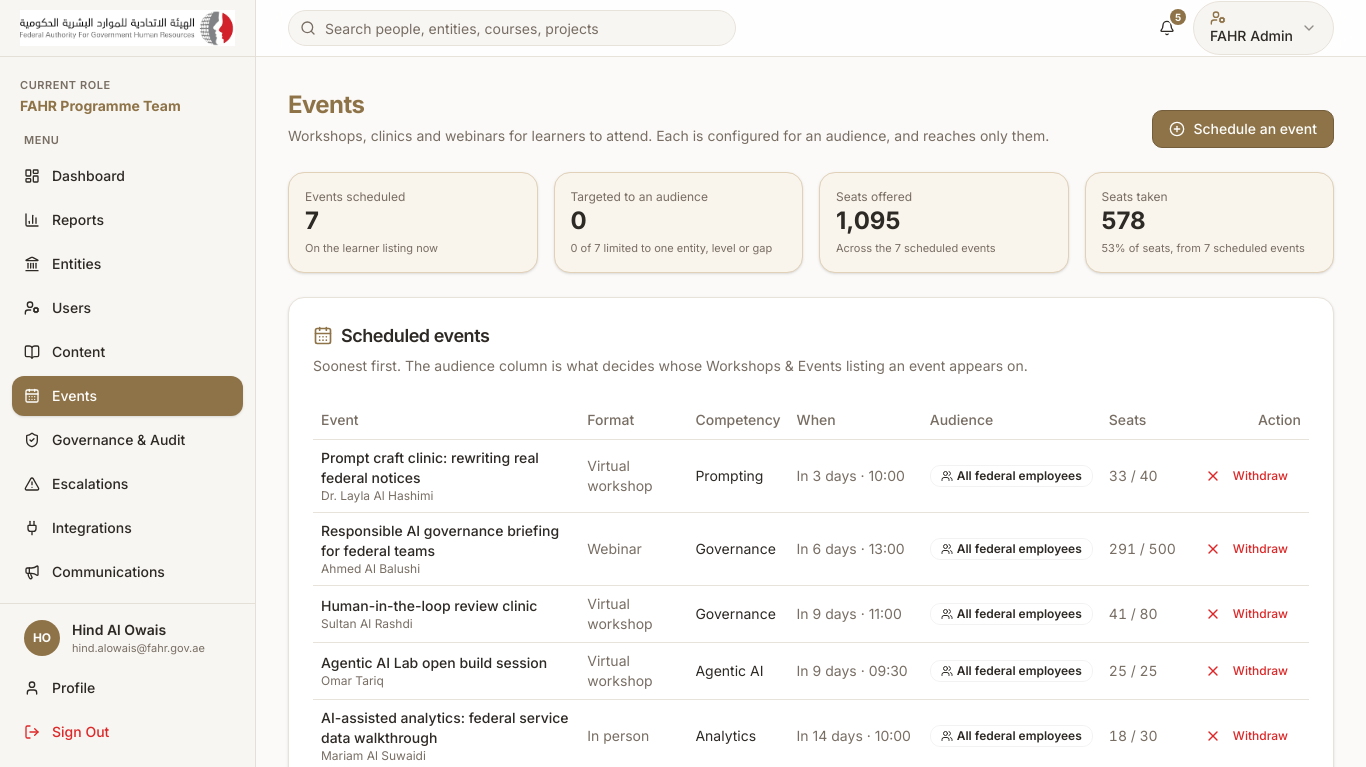
Test: federal events › schedules an event and shows the audience it is configured for
Click the button with test id "button-create-event". click: (1243, 129)
box: left=1152, top=110, right=1334, bottom=148
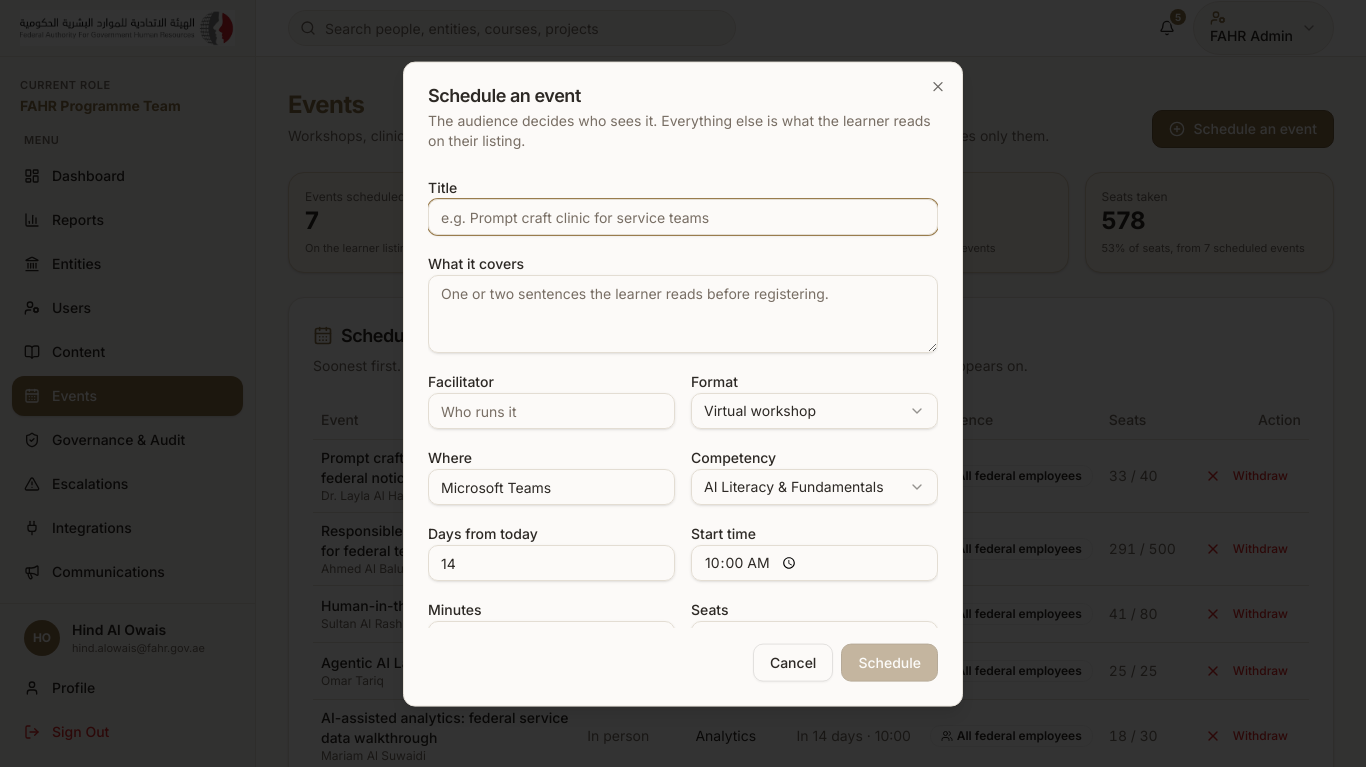
Type "Agentic AI clinic" into the field with test id "input-event-title". click: (683, 217)
box: left=428, top=199, right=938, bottom=235
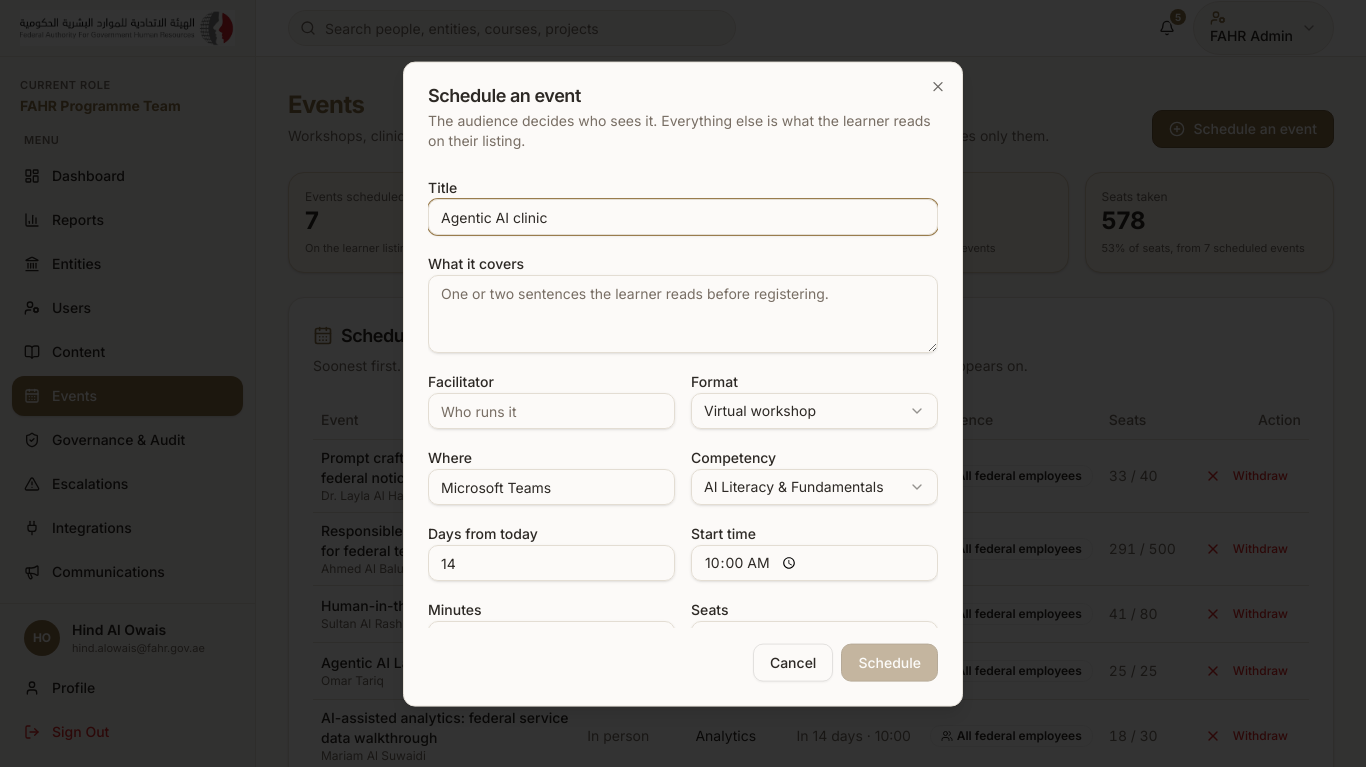
Type "Hind Al Owais" into the field with test id "input-event-facilitator". click: (552, 411)
box: left=428, top=393, right=675, bottom=429
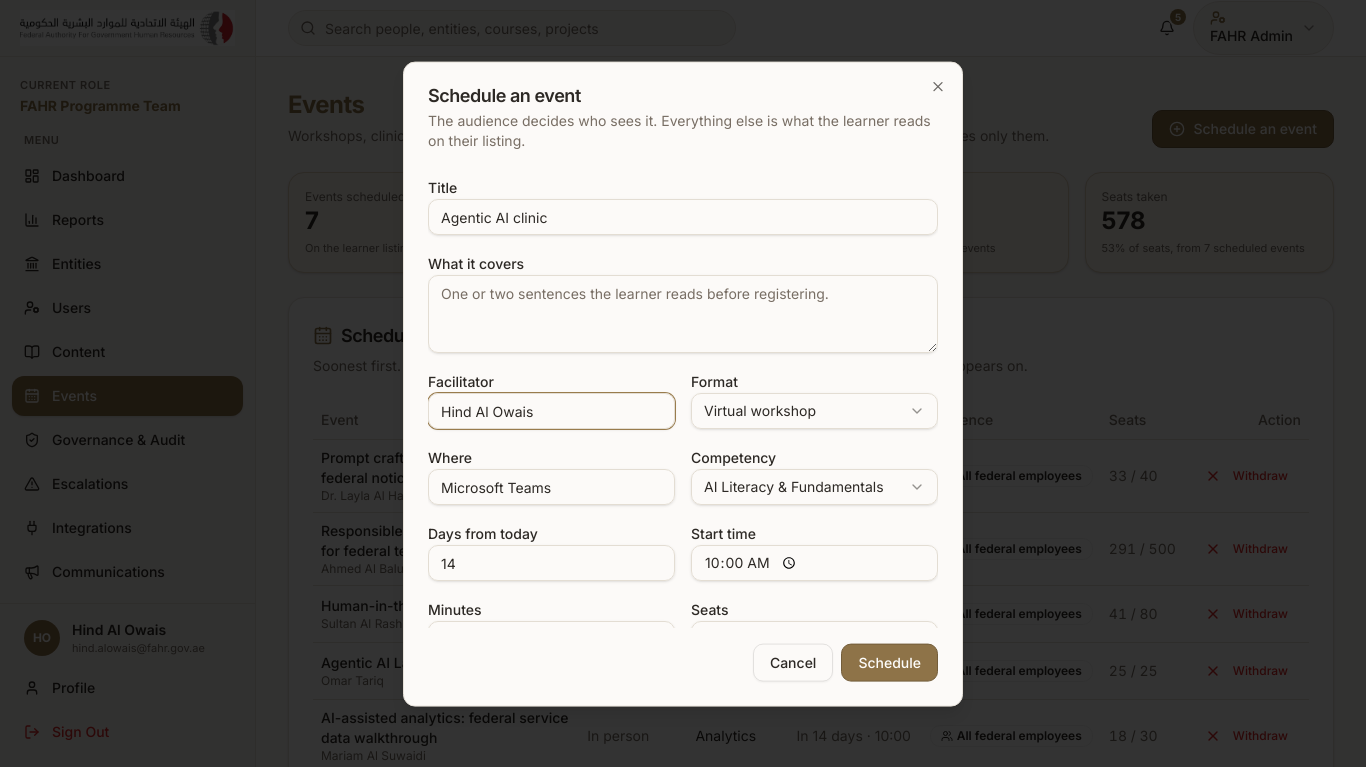
Click the button with test id "button-submit-event". click: (890, 662)
box: left=841, top=643, right=938, bottom=681
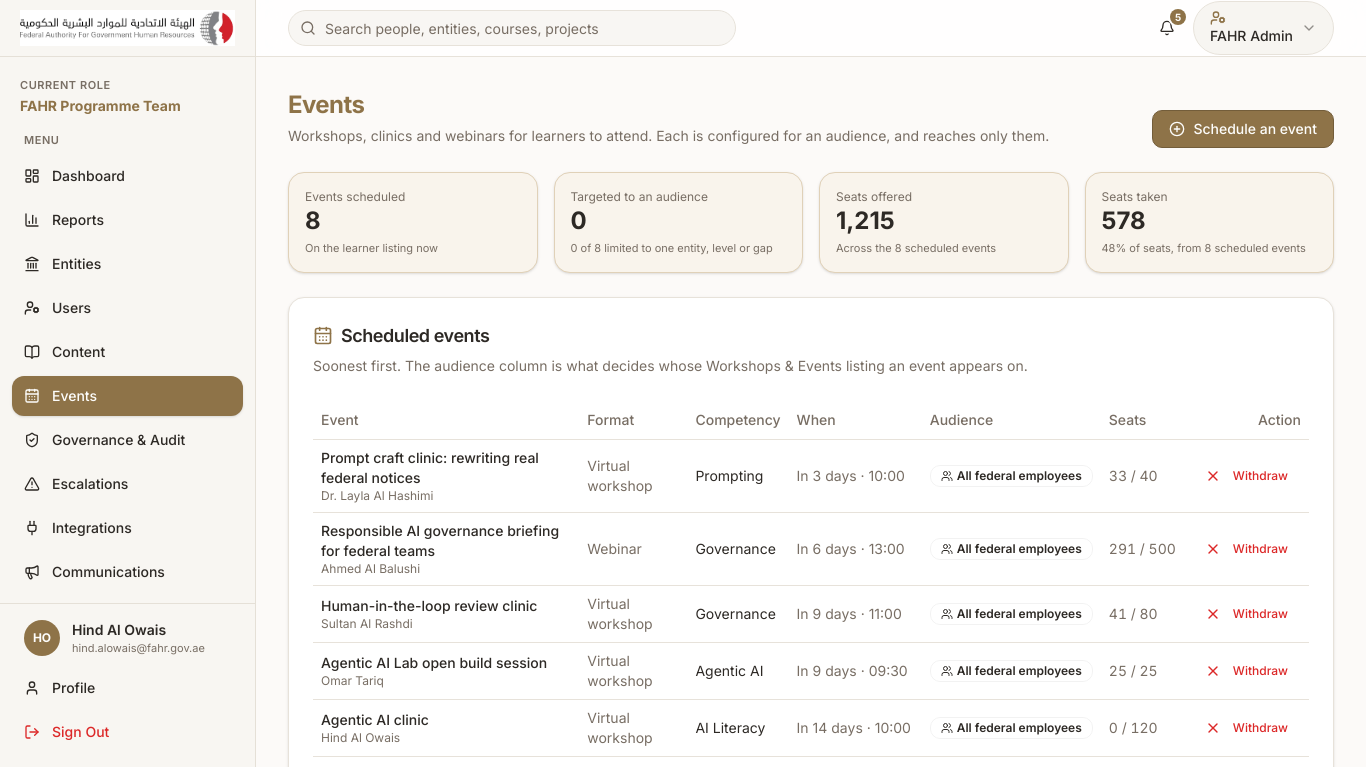
Expected: the 5th text "All federal employees" is shown, left=930, top=717, right=1093, bottom=739
